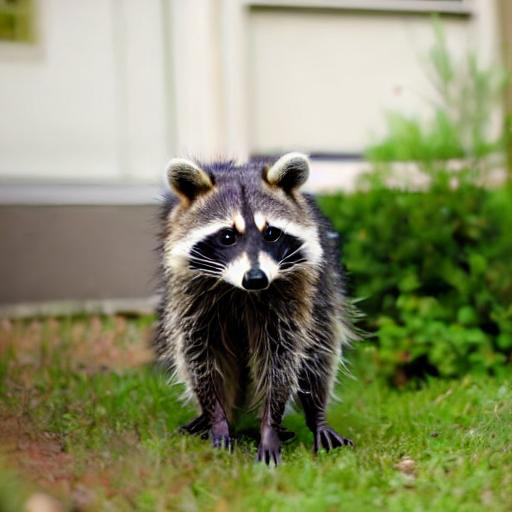raccoon: (143, 142, 356, 429)
